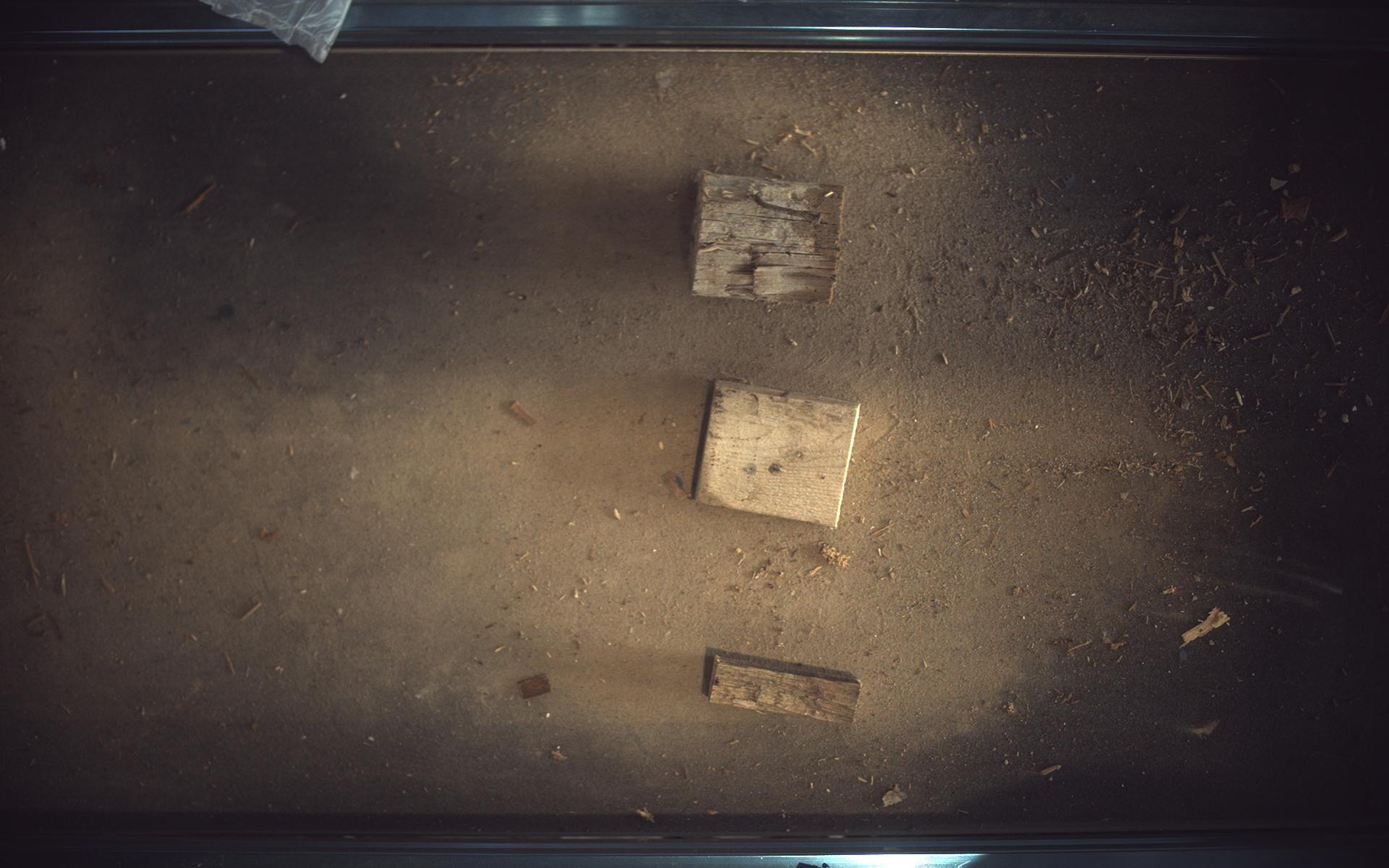wood: (695, 380, 862, 528), (694, 170, 846, 302), (704, 649, 862, 724)
